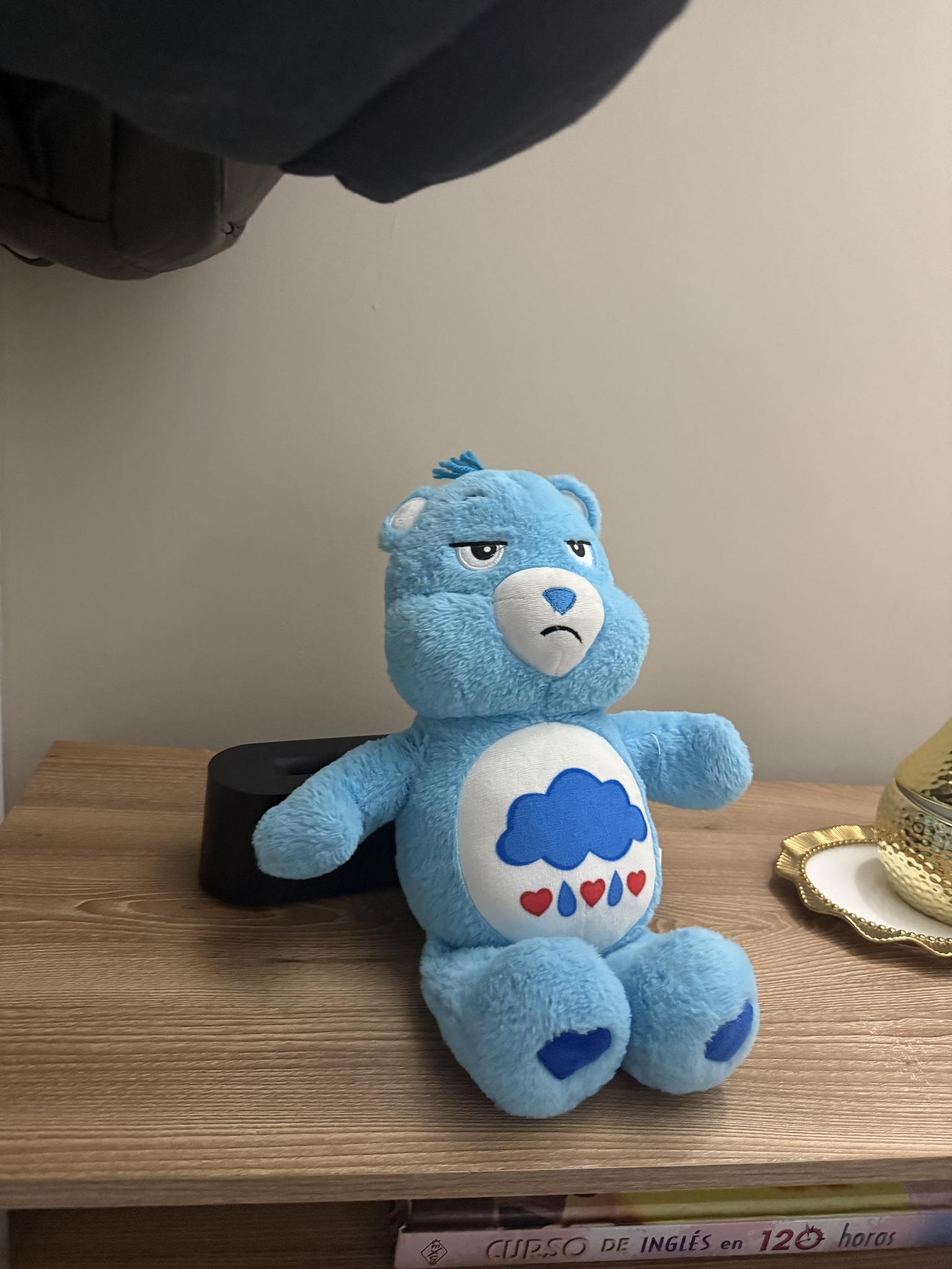peluche_Juan Jose: (244, 449, 764, 1120)
